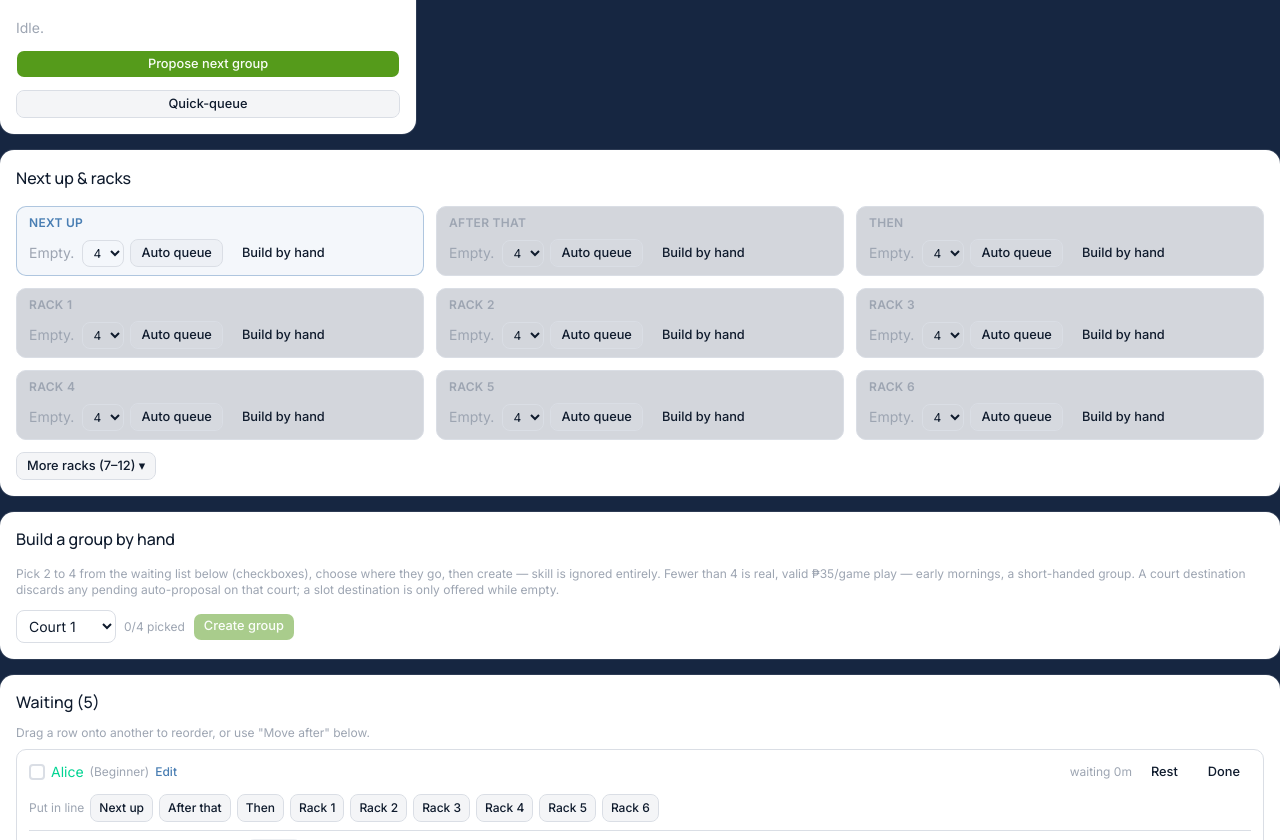
RotationBoard — build a group by hand (2-4 players) › enables at 4 players but disables again at 5
Click the checkbox labelled "Alice (Beginner)" at (37, 772), box [29,764,45,780]
(page scrolled)
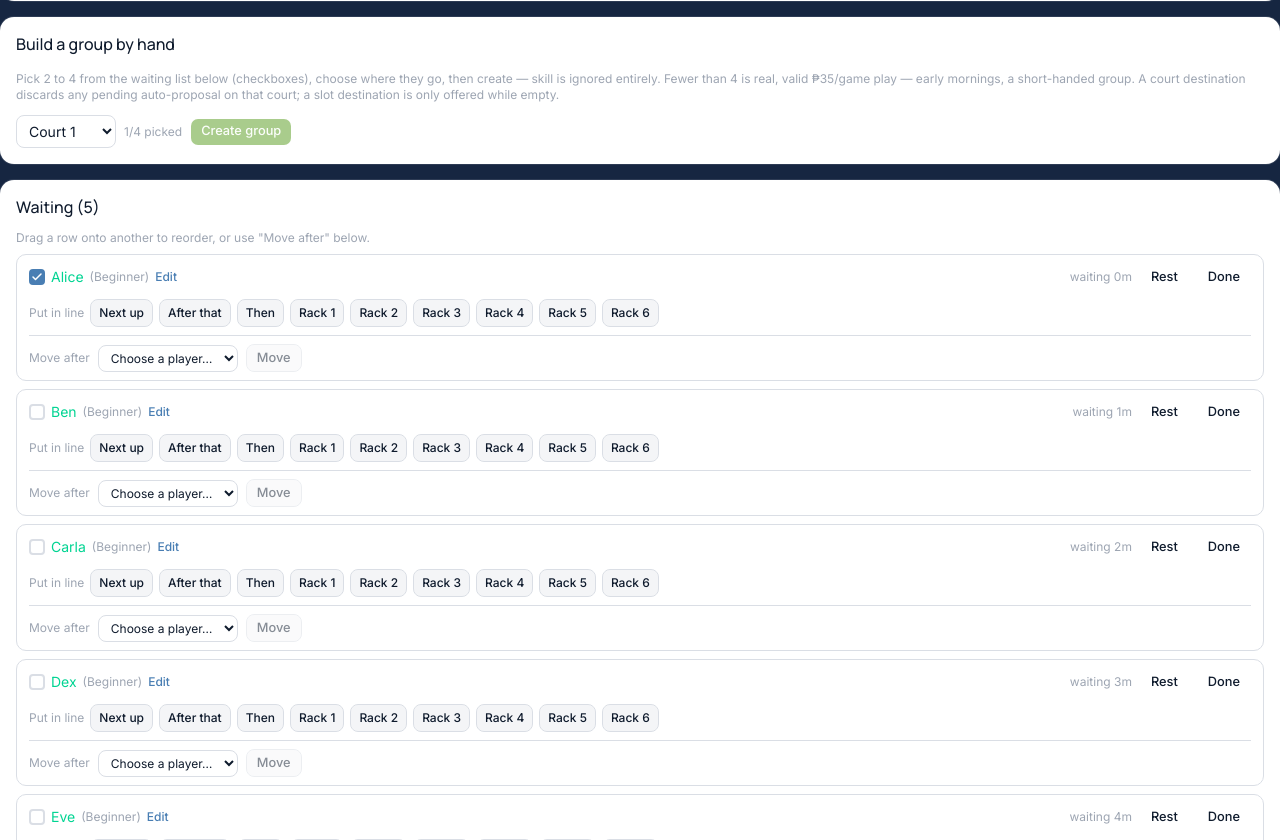
Click the checkbox labelled "Ben (Beginner)" at (37, 412), box [29,404,45,420]
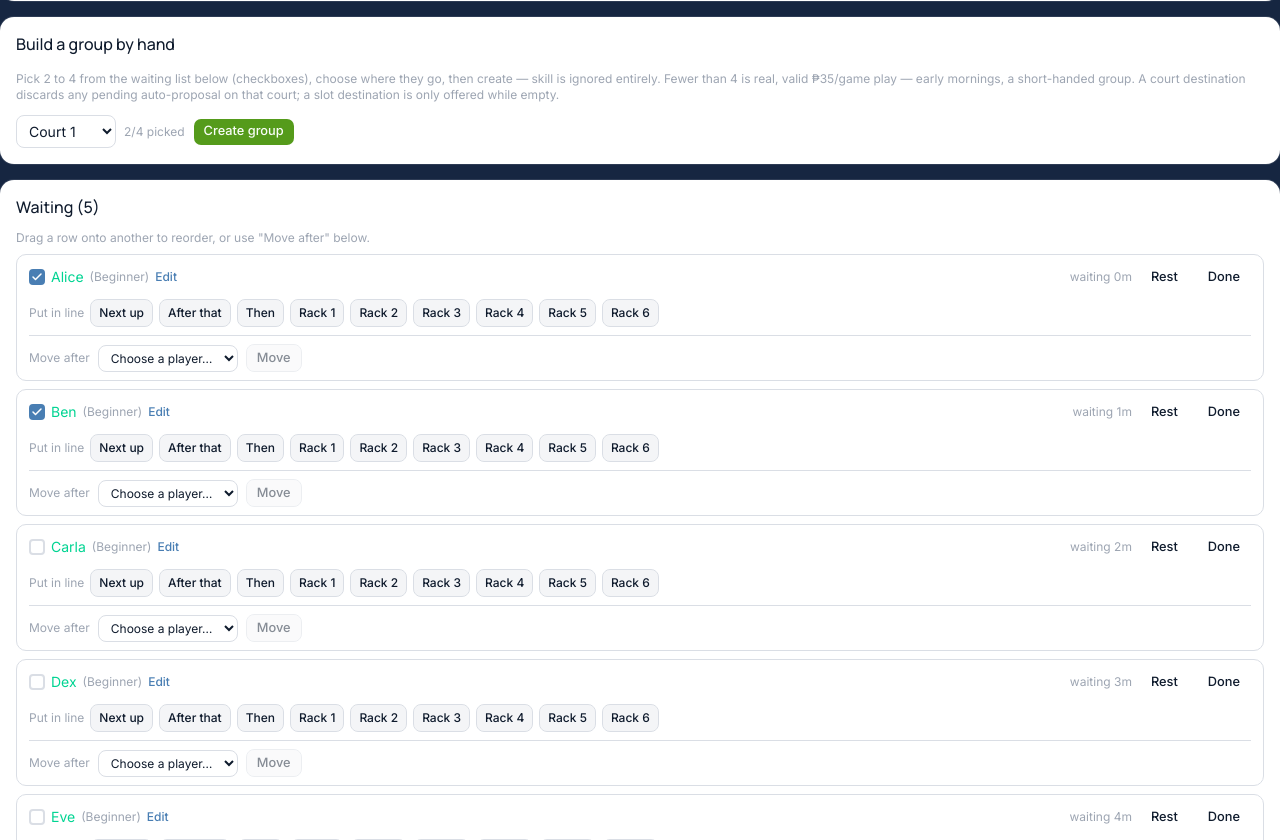
Click the checkbox labelled "Carla (Beginner)" at (37, 547), box [29,539,45,555]
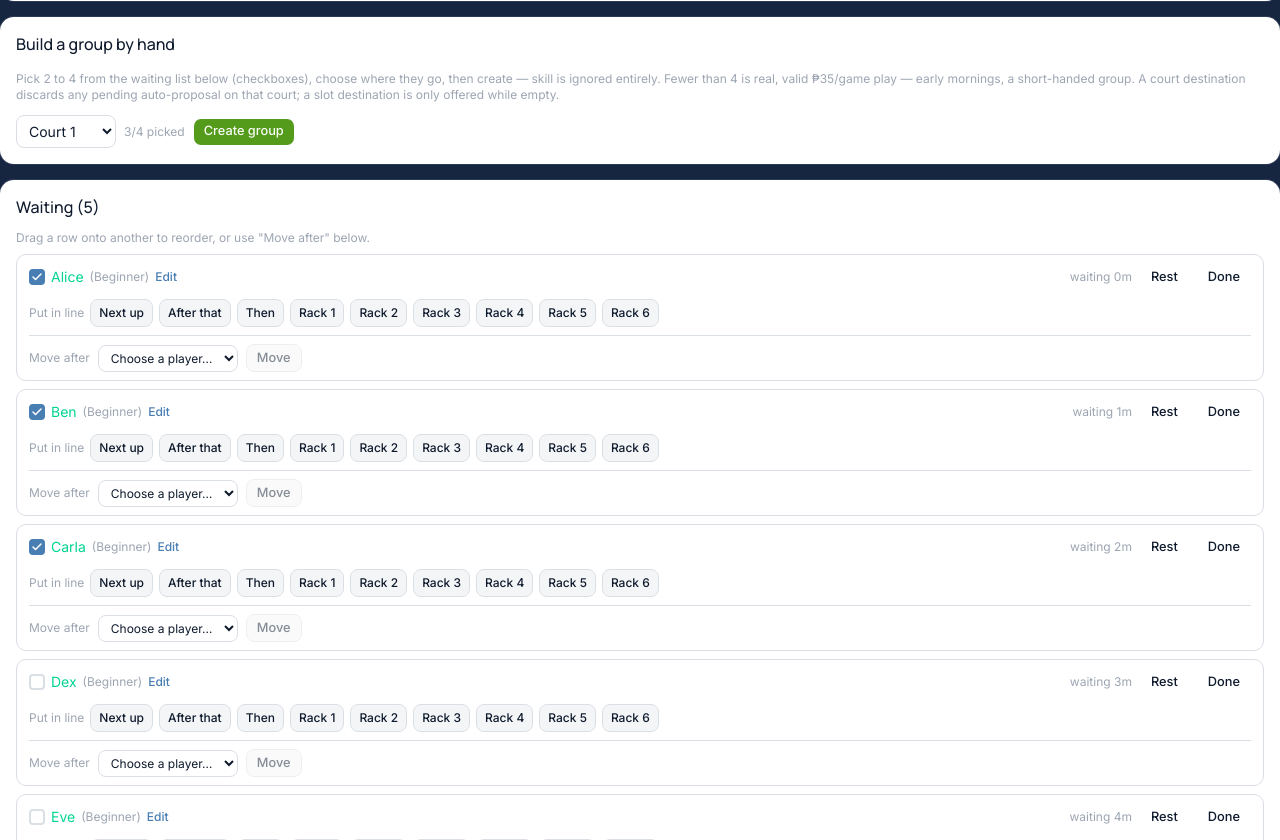
Click the checkbox labelled "Dex (Beginner)" at (37, 682), box [29,674,45,690]
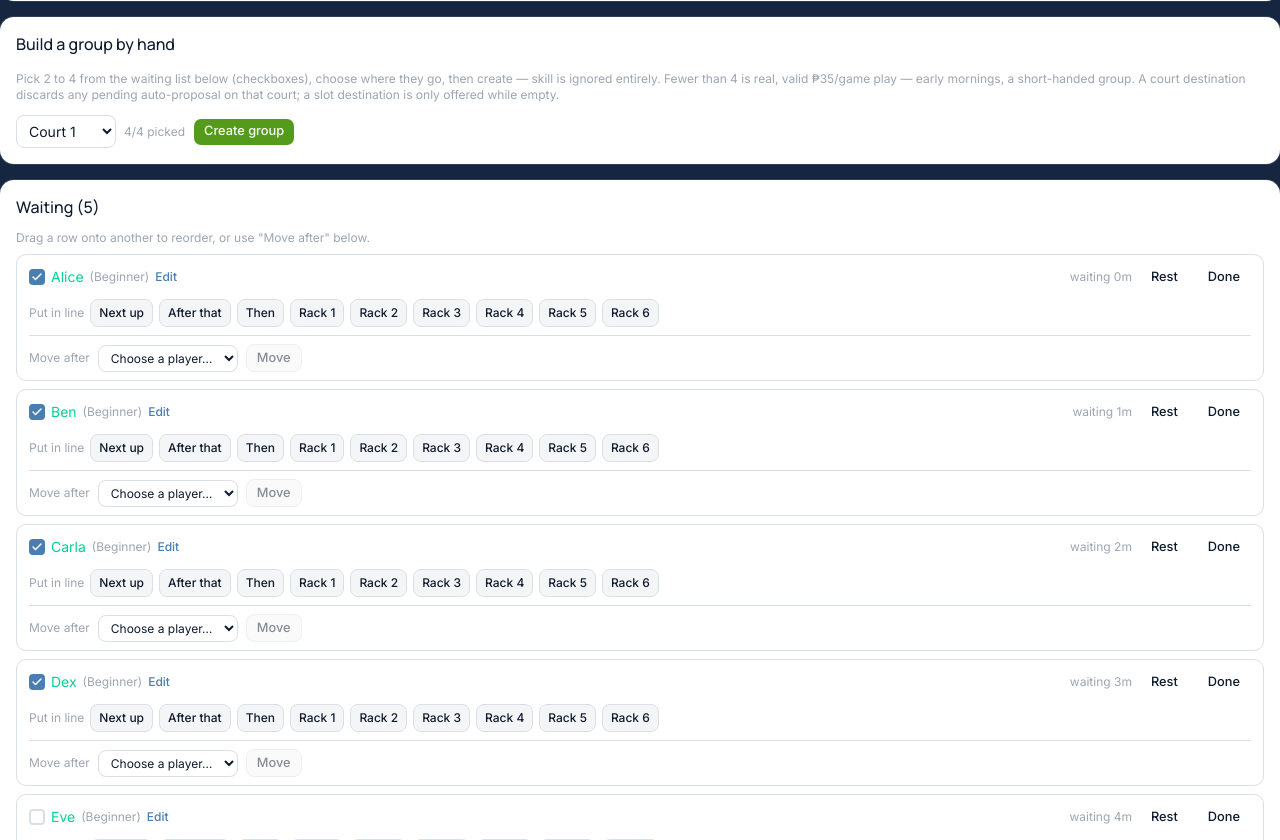
Expected: the button "Create group" is enabled, [193,118,295,146]
Click the checkbox labelled "Eve (Beginner)" at (37, 817), box [29,809,45,825]
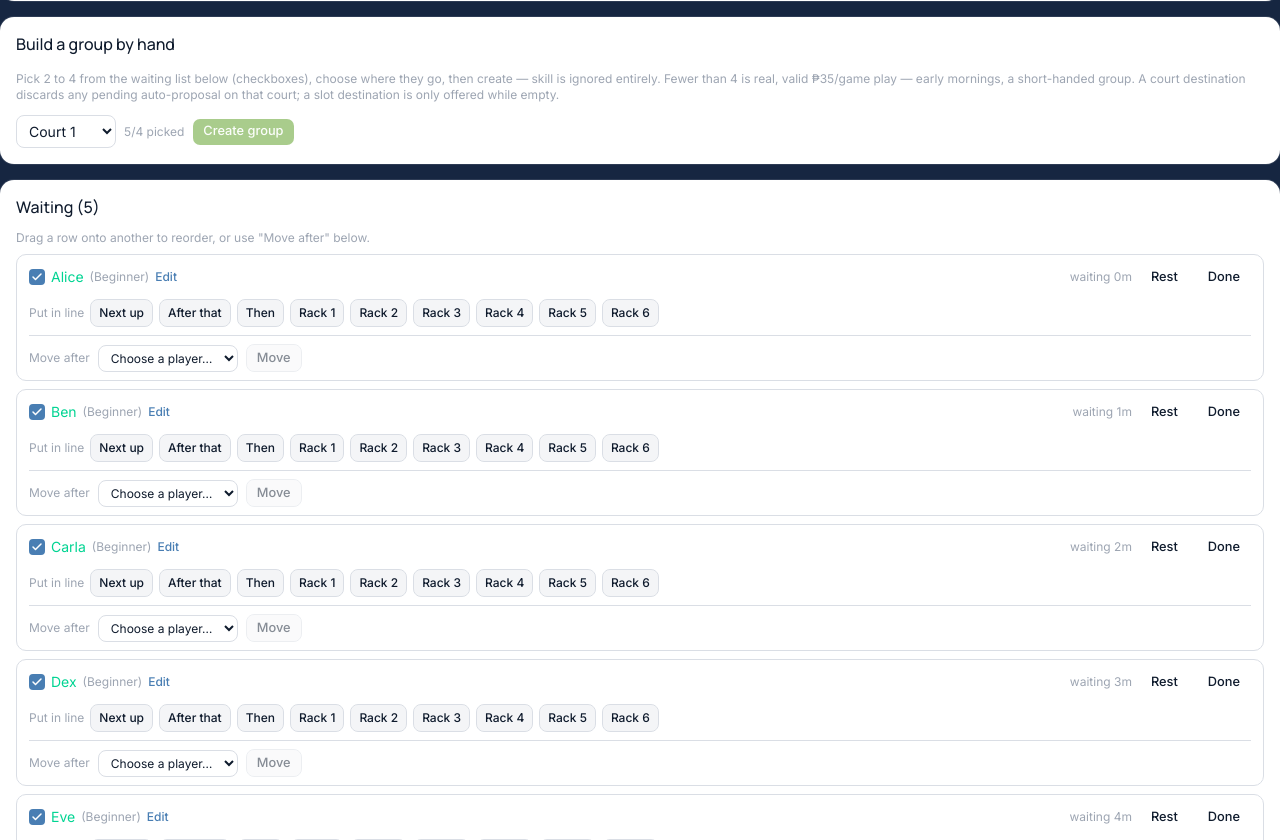
Expected: the button "Create group" is disabled, [192,118,294,146]
